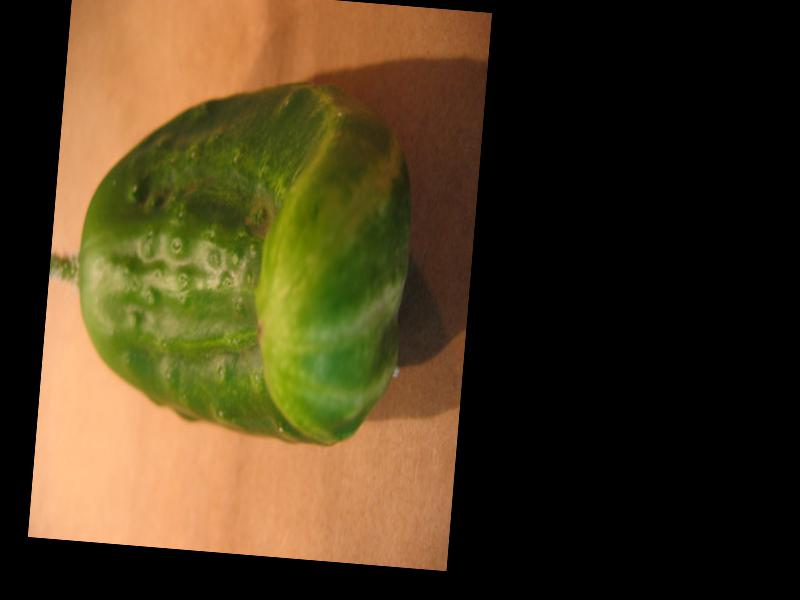Cucumber: (64, 69, 421, 454)
